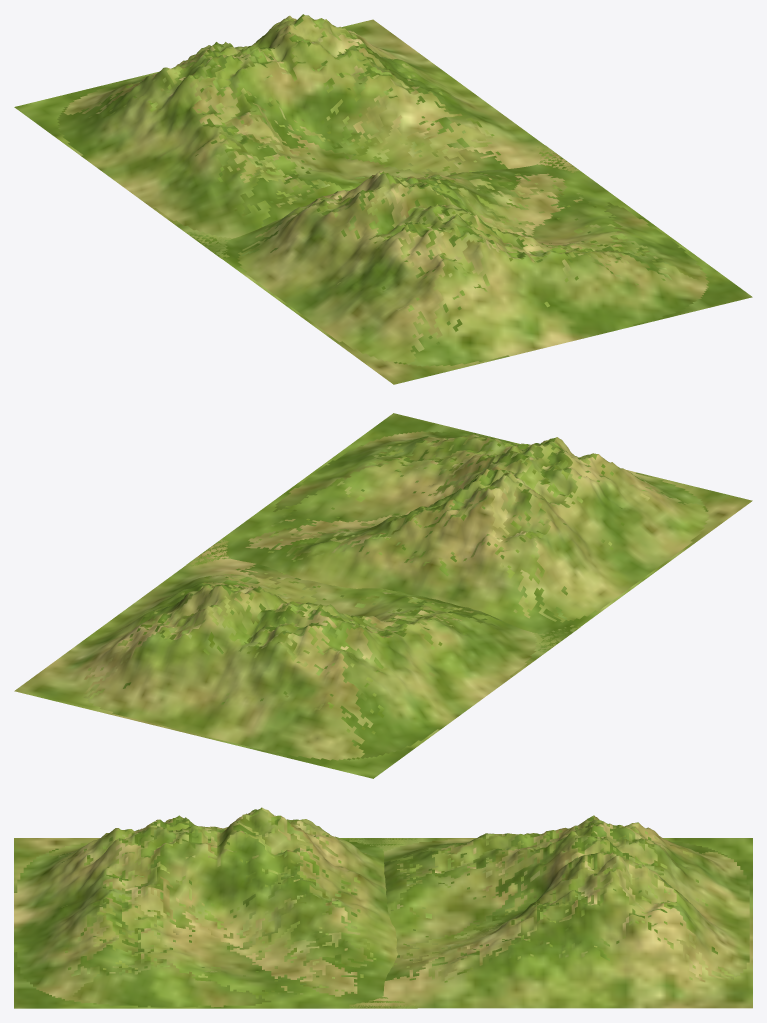
File: terrain.glb
3 views of the same model, one above another, from view 1: azimuth 30°, elevation 25°; view 2: azimuth 150°, elevation 25°; view 3: azimuth 270°, elevation 25° (orthographic). The views are drawn at different scales.
Parts seen in each view (by area): view 1: Landscape.001_1, Landscape_0; view 2: Landscape_0, Landscape.001_1; view 3: Landscape.001_1, Landscape_0.
Part boxes in pixels (x1=…): Landscape.001_1: x1=187, y1=145, x2=752, y2=384; Landscape_0: x1=14, y1=14, x2=579, y2=258; Landscape_0: x1=14, y1=539, x2=580, y2=778; Landscape.001_1: x1=186, y1=413, x2=752, y2=652; Landscape.001_1: x1=14, y1=807, x2=417, y2=1008; Landscape_0: x1=349, y1=815, x2=752, y2=1008.
Bounding box in the file's own units: 40.03 × 9.51 × 73.22.
2 materials, 2 textured.
